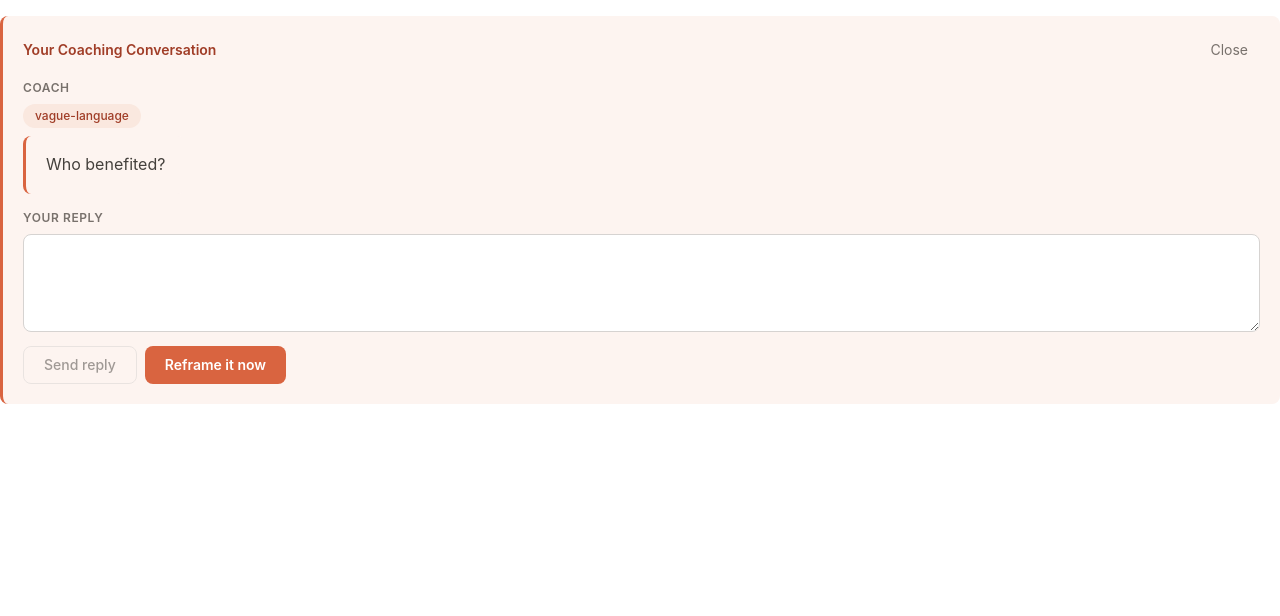
Test: CoachPanel — chatting phase › sends the user's reply and renders the next coach turn
Expected: the text "Who benefited?" is shown, [23,136,185,194]
Type "The platform team" into the text box labelled "Your reply".
click(642, 283); type("The platform team")  # box [23,234,1260,332]
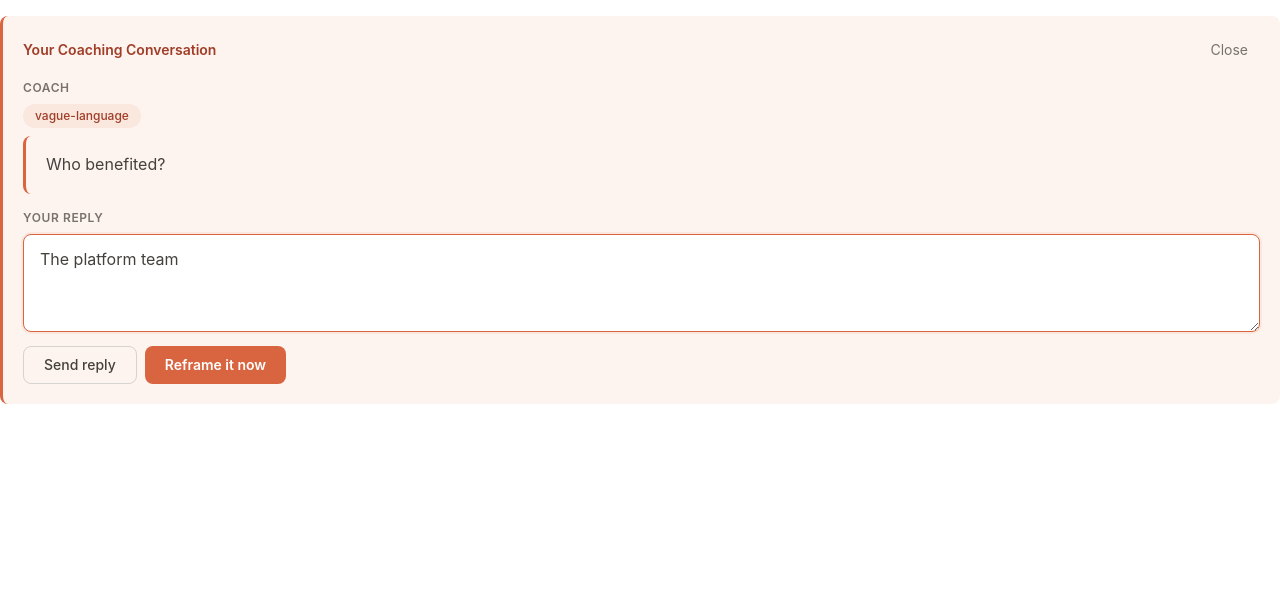
Click the button "Send reply".
click(80, 365)  # box [23,346,137,384]
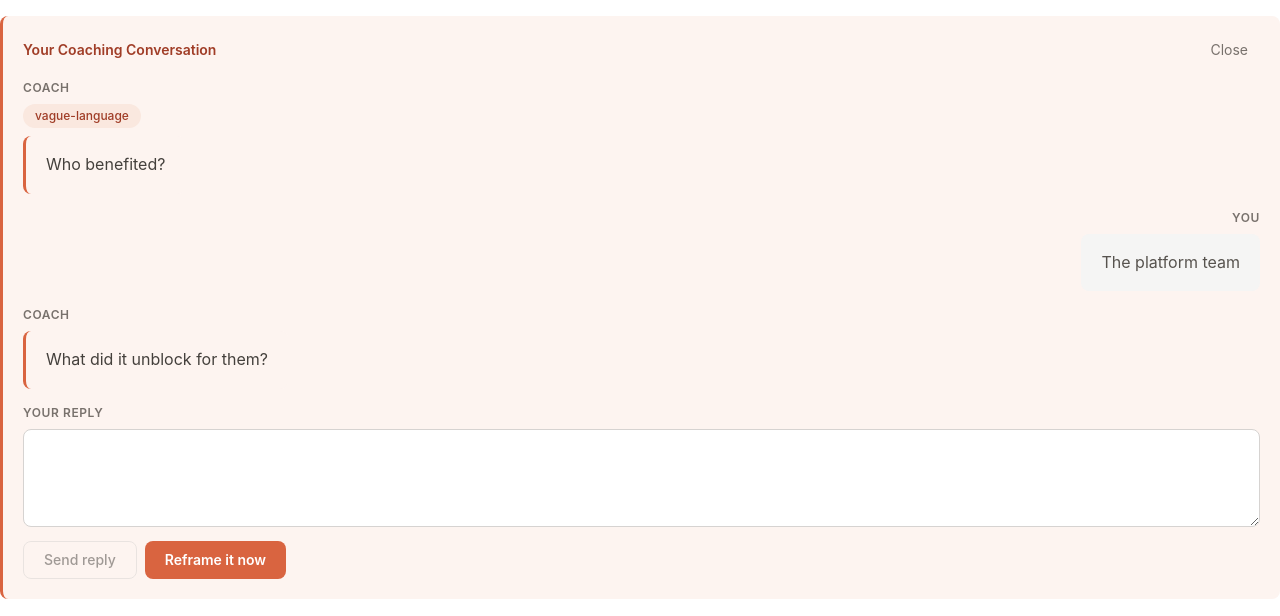
Expected: the text "The platform team" is shown, [1082,234,1260,291]
Expected: the text "What did it unblock for them?" is shown, [23,331,288,389]
